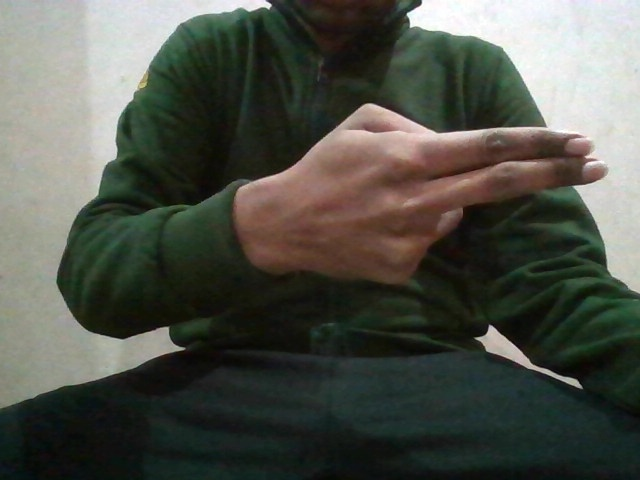H: (246, 97, 609, 285)
